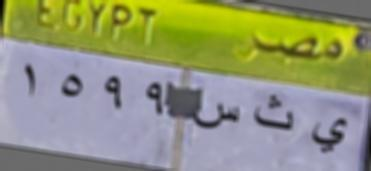1: (19, 60, 42, 101)
5: (55, 68, 86, 105)
9: (141, 80, 165, 123), (102, 72, 124, 114)
seen: (189, 99, 243, 138)
thaa: (250, 91, 297, 138)
yaa: (308, 109, 349, 158)
